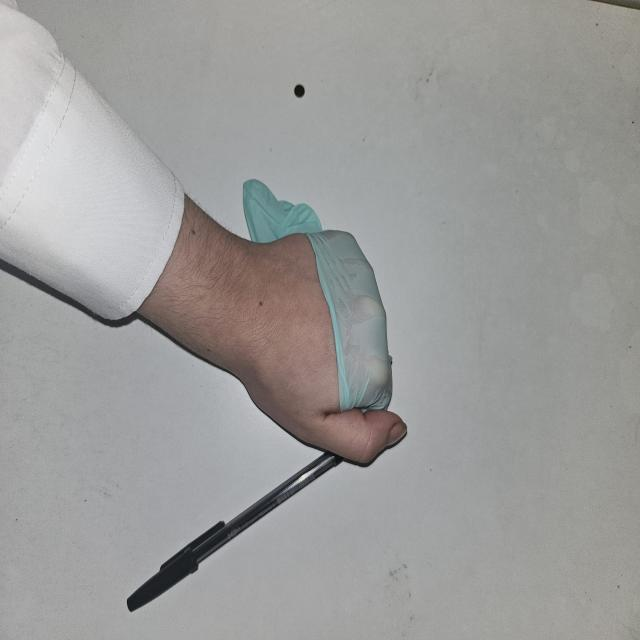glove_partial: (241, 177, 408, 469)
